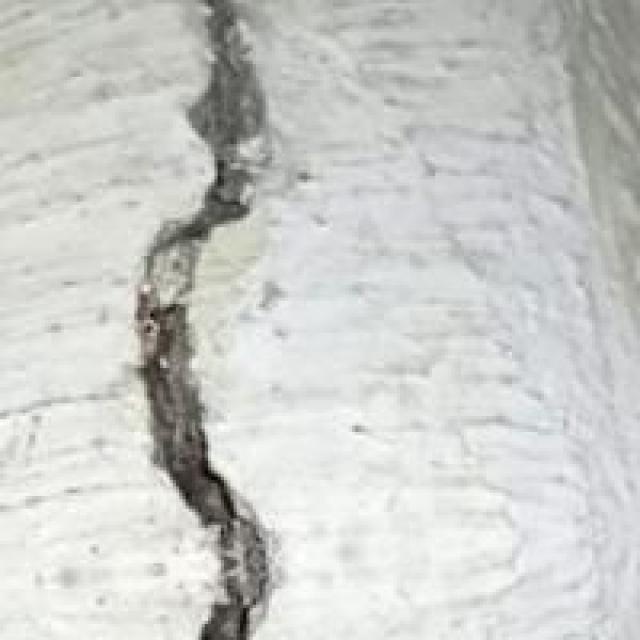Crack: (77, 0, 346, 637)
